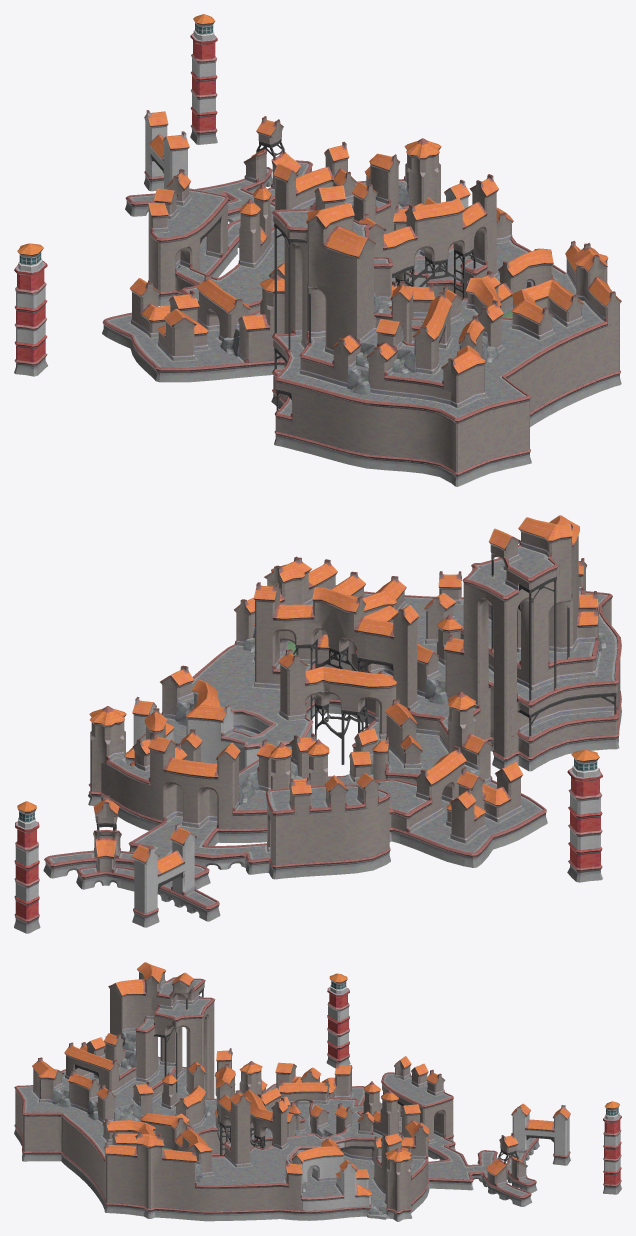
File: castle.glb
3 renders of one model, top to bottom at view 1: azimuth 30°, elevation 25°; view 2: azimuth 150°, elevation 25°; view 3: azimuth 270°, elevation 25°, orthographic. The views are drawn at different scales.
Parts seen in each view (by area): view 1: House.085, House.084, House.081, House.068, House.089, House.069, House.023, House.083, House.041, House.077, House.046, House.031 (+42 smaller); view 2: House.085, House.073, House.068, House.077, House.081, House.039, House.069, House.079, House.065, House.031, House.023, House.044 (+57 smaller); view 3: House.084, House.071, House.081, House.076, House.045, House.073, House.068, House.043, House.027, House.065, House.074, House.056 (+57 smaller).
Part boxes in pixels (box(x1,y1,x2,y2)): House.085: box(271, 340, 458, 486); House.084: box(457, 323, 621, 486); House.081: box(297, 242, 396, 354); House.068: box(148, 188, 228, 280); House.089: box(274, 347, 530, 423); House.069: box(102, 312, 248, 382); House.023: box(129, 278, 208, 360); House.083: box(484, 272, 607, 378); House.041: box(402, 197, 470, 266); House.077: box(174, 225, 284, 329); House.046: box(511, 279, 583, 339); House.031: box(273, 141, 356, 210); House.085: box(511, 599, 621, 771); House.073: box(128, 816, 390, 879); House.068: box(266, 784, 390, 853); House.077: box(216, 765, 442, 843); House.081: box(490, 536, 578, 676); House.039: box(278, 649, 396, 738); House.069: box(399, 780, 547, 867); House.079: box(100, 763, 217, 830); House.065: box(463, 585, 524, 692); House.031: box(148, 732, 240, 799); House.023: box(446, 761, 522, 843); House.044: box(365, 605, 418, 717); House.084: box(14, 1090, 150, 1218); House.071: box(150, 1155, 264, 1221); House.081: box(110, 990, 182, 1082); House.076: box(264, 1150, 387, 1220); House.045: box(104, 1131, 196, 1185); House.073: box(399, 1108, 476, 1190); House.068: box(381, 1072, 453, 1134); House.043: box(220, 1090, 251, 1167); House.027: box(384, 1148, 412, 1221); House.065: box(171, 1003, 214, 1094); House.074: box(244, 1136, 305, 1187); House.056: box(64, 1042, 123, 1093).
Bounding box in the file's own units: 27.67 × 12.12 × 43.38.
84 materials, 84 textured.
